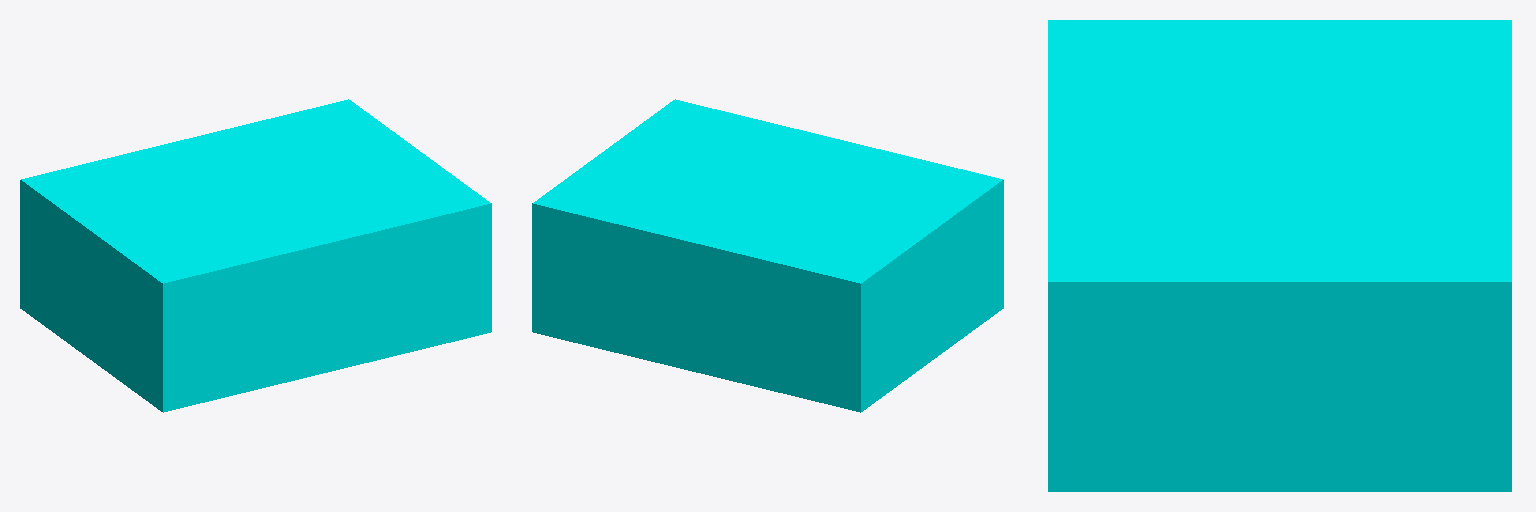
URDF robot description (ball):
<?xml version="0.0" ?>
<robot name="ball">
    <link name="wall">
        <contact>
            <lateral_friction value="1"/>
        </contact>

        <inertial>
            <origin xyz="0 0 0" rpy="0 0 0"/>
            <mass value="0.0"/>
            <inertia ixx="0"  ixy="0"  ixz="0" iyy="0" iyz="0" izz="0" />
        </inertial>

        <visual>
            <origin xyz="0 0 0" rpy="0 0 0" />
            <geometry>
                <box size="4.0 3.0 1.5" />
            </geometry>
            <material name="Cyan">
                <color rgba="0 1.0 1.0 1.0"/>
            </material>
        </visual>

        <collision>
            <origin xyz="0 0 0" rpy="0 0 0"/>
            <geometry>
                <box size="4.0 3.0 1.5" />
            </geometry>
        </collision>
    </link>
</robot>

--- Facts derived from the render (not from the file) ---
Views: 3 orthographic renders of the robot side by side, from view 1: azimuth 30°, elevation 25°; view 2: azimuth 150°, elevation 25°; view 3: azimuth 270°, elevation 25°.
Robot: ball — 1 links, 0 joints (none); root link wall; default pose: every joint at zero.
Links seen in each view (by area): view 1: wall; view 2: wall; view 3: wall.
Link boxes in pixels (bbox=[...]): wall: bbox=[20, 99, 491, 412]; wall: bbox=[532, 99, 1003, 412]; wall: bbox=[1048, 20, 1511, 491].
Bounding box of the posed robot: 4 × 3 × 1.5 m (x, y, z).
Geometry: primitives only (box / cylinder / sphere), no mesh files.